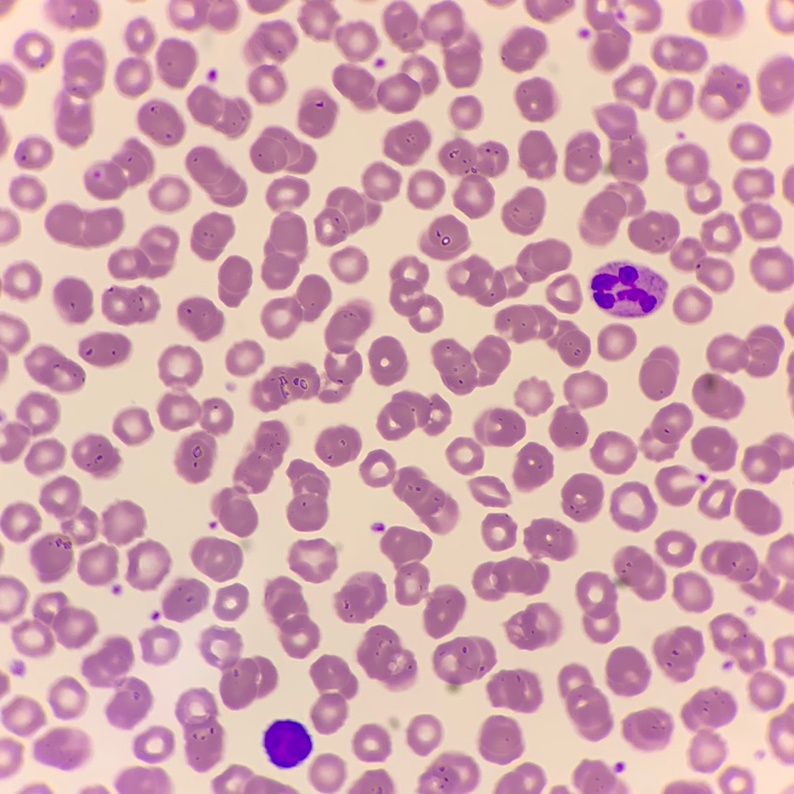RBC: (565, 104, 740, 291), (252, 301, 371, 410), (212, 420, 288, 536), (576, 546, 665, 642), (384, 1, 480, 87), (448, 239, 570, 305), (360, 450, 457, 532), (30, 476, 97, 582), (701, 534, 793, 610), (315, 163, 400, 245), (158, 393, 232, 481), (82, 636, 151, 728), (201, 626, 277, 708), (333, 55, 438, 112), (495, 305, 590, 366), (12, 592, 97, 656), (439, 138, 507, 217), (56, 40, 105, 146), (300, 0, 377, 60), (681, 687, 736, 771), (264, 577, 319, 657), (262, 275, 331, 338), (433, 336, 509, 393), (590, 261, 666, 317), (85, 138, 154, 199), (550, 372, 606, 446), (0, 392, 59, 461), (558, 664, 612, 739), (390, 257, 442, 332), (381, 526, 430, 604), (176, 689, 223, 770), (707, 326, 783, 376), (667, 143, 720, 213), (109, 226, 178, 279), (357, 625, 416, 686), (311, 655, 357, 733), (186, 147, 246, 206), (45, 203, 123, 247), (433, 636, 495, 691), (378, 391, 449, 439), (262, 212, 306, 289), (734, 168, 781, 239), (187, 85, 250, 137), (586, 0, 630, 70), (473, 558, 548, 599), (711, 614, 764, 671), (251, 127, 315, 173), (287, 460, 329, 530), (641, 403, 691, 459), (653, 626, 703, 681), (25, 345, 84, 391), (699, 66, 749, 119), (336, 572, 386, 622), (506, 603, 560, 648), (418, 753, 478, 793), (742, 435, 793, 482), (262, 719, 312, 766), (487, 669, 542, 711), (213, 765, 294, 793), (693, 373, 743, 418), (34, 728, 88, 769), (606, 646, 650, 695), (192, 537, 242, 580), (611, 482, 656, 529), (424, 585, 465, 636), (102, 287, 158, 324), (138, 100, 184, 145), (127, 541, 170, 589), (479, 715, 522, 763), (524, 518, 574, 559), (735, 489, 780, 534), (421, 216, 468, 259), (170, 0, 237, 30), (247, 21, 296, 62), (623, 708, 672, 749), (191, 213, 234, 259), (639, 347, 677, 399), (758, 56, 793, 112), (692, 426, 736, 470), (501, 28, 546, 71), (385, 121, 430, 164), (178, 297, 223, 340), (502, 188, 544, 234), (73, 434, 119, 476), (290, 539, 336, 581), (591, 431, 636, 473), (162, 579, 208, 620), (157, 39, 196, 87), (653, 36, 706, 71), (102, 501, 145, 544), (562, 474, 602, 520), (751, 247, 793, 290), (690, 0, 743, 34), (475, 409, 525, 445), (0, 314, 28, 378), (298, 90, 336, 137), (54, 277, 92, 323), (369, 337, 406, 384), (79, 332, 130, 366), (515, 78, 555, 121), (316, 426, 360, 465), (1, 696, 45, 735), (514, 443, 552, 488), (519, 131, 555, 177), (219, 256, 251, 306), (615, 66, 654, 107), (159, 346, 201, 384), (0, 502, 40, 541), (78, 545, 118, 584), (730, 123, 770, 160), (49, 677, 85, 718), (495, 763, 544, 793), (656, 466, 693, 504), (674, 573, 711, 611), (141, 626, 179, 663), (115, 57, 151, 96), (657, 79, 692, 119), (25, 439, 65, 474), (353, 724, 390, 761), (249, 65, 285, 103), (114, 408, 152, 444), (116, 767, 168, 793), (574, 761, 616, 793), (408, 171, 444, 208), (4, 262, 41, 298), (673, 287, 711, 322), (407, 715, 441, 754), (134, 727, 173, 761), (50, 0, 99, 27), (447, 437, 483, 473), (598, 324, 635, 359), (749, 672, 784, 709), (656, 531, 694, 565), (310, 754, 344, 792), (267, 177, 308, 208), (331, 247, 367, 282), (226, 341, 263, 375), (699, 480, 733, 517), (150, 177, 188, 210), (15, 33, 51, 67), (516, 380, 552, 414), (547, 275, 580, 312), (482, 513, 515, 550), (470, 476, 509, 506), (10, 175, 45, 208), (215, 584, 247, 620), (15, 137, 52, 168), (0, 575, 27, 614), (525, 0, 574, 21), (451, 96, 481, 129), (350, 770, 393, 793), (0, 64, 24, 105), (126, 18, 153, 53), (769, 705, 793, 743), (720, 767, 753, 793), (632, 0, 660, 30), (0, 738, 21, 777), (775, 636, 793, 675), (665, 782, 710, 793), (249, 0, 284, 12), (783, 167, 793, 200), (5, 221, 19, 238), (0, 124, 8, 153), (24, 784, 49, 793), (0, 674, 9, 694), (785, 310, 793, 331), (12, 661, 24, 674), (779, 21, 793, 32), (0, 0, 11, 12), (85, 787, 106, 793), (0, 611, 11, 621), (788, 356, 793, 377), (783, 753, 793, 763), (552, 786, 566, 793), (0, 209, 9, 218), (492, 0, 506, 5), (789, 382, 793, 394)
